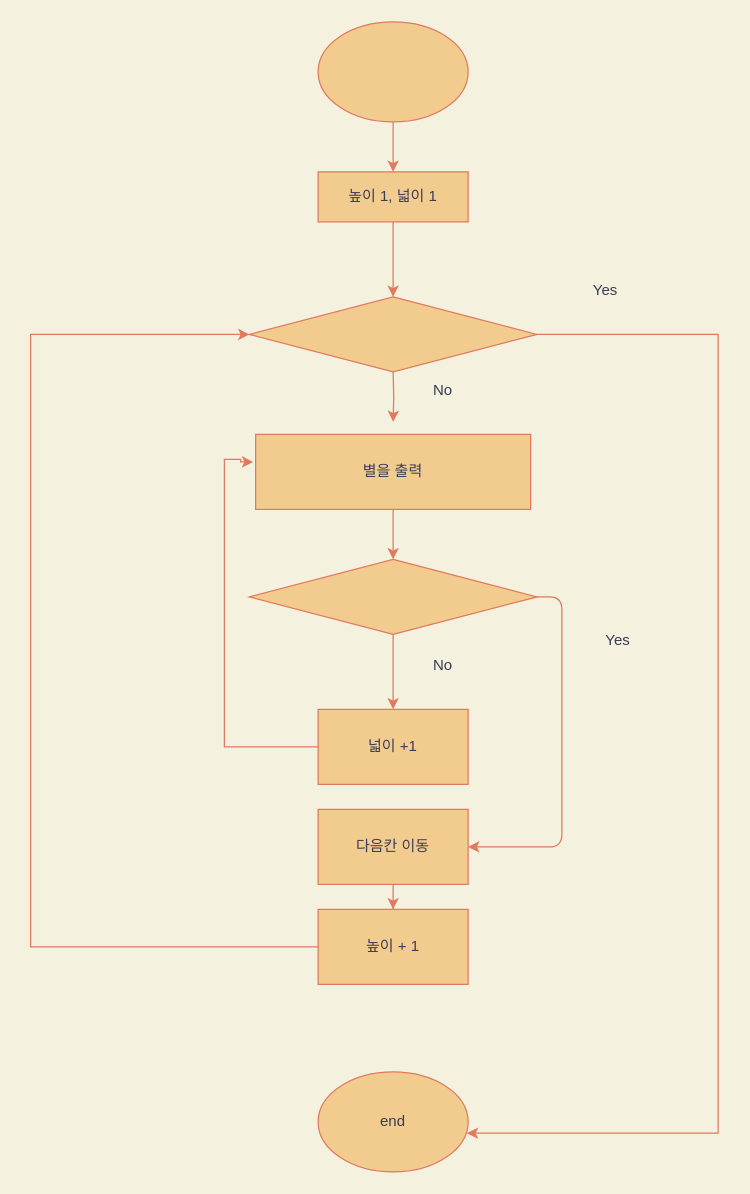
This 750x1194 diagram has some shape labels left out. The centre of each missing label's shape, as x and y in pixels:
"넓이가 11보다 큼?" belongs at point (392, 596).
"높이가 8보다 큼?" belongs at point (392, 334).
"막대바 제조 시작" belongs at point (392, 71).
